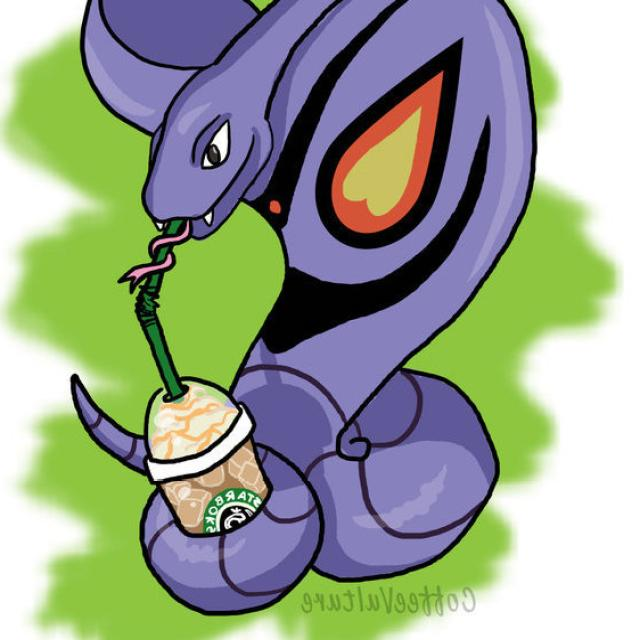Arbok: (122, 2, 533, 600)
